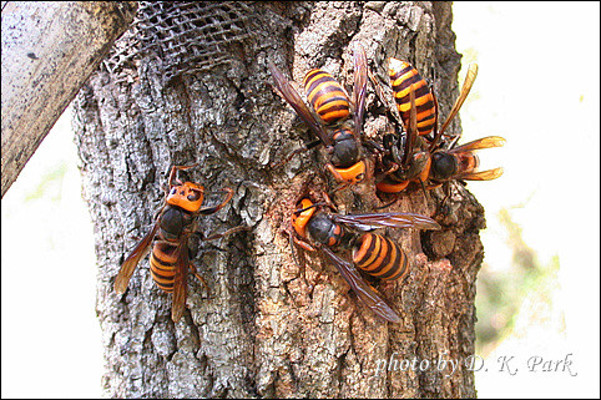asian_giant_hornet: (280, 188, 440, 326), (278, 47, 378, 186), (148, 162, 233, 303), (384, 52, 475, 141), (408, 142, 509, 186), (364, 133, 424, 195)
